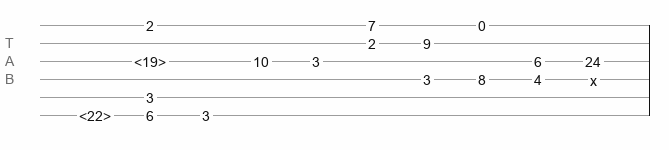0: (478, 18, 486, 28)
10: (253, 54, 269, 64)
2: (146, 18, 154, 28), (368, 36, 376, 46)
24: (585, 54, 601, 64)
3: (146, 90, 154, 100), (202, 108, 210, 118), (312, 54, 320, 64), (423, 72, 431, 82)
4: (534, 72, 542, 82)
6: (146, 108, 154, 118), (534, 54, 542, 64)
7: (368, 18, 376, 28)
8: (478, 72, 486, 82)
9: (423, 36, 431, 46)
harmonic: (79, 108, 111, 118), (134, 54, 166, 64)
x: (590, 73, 597, 81)
